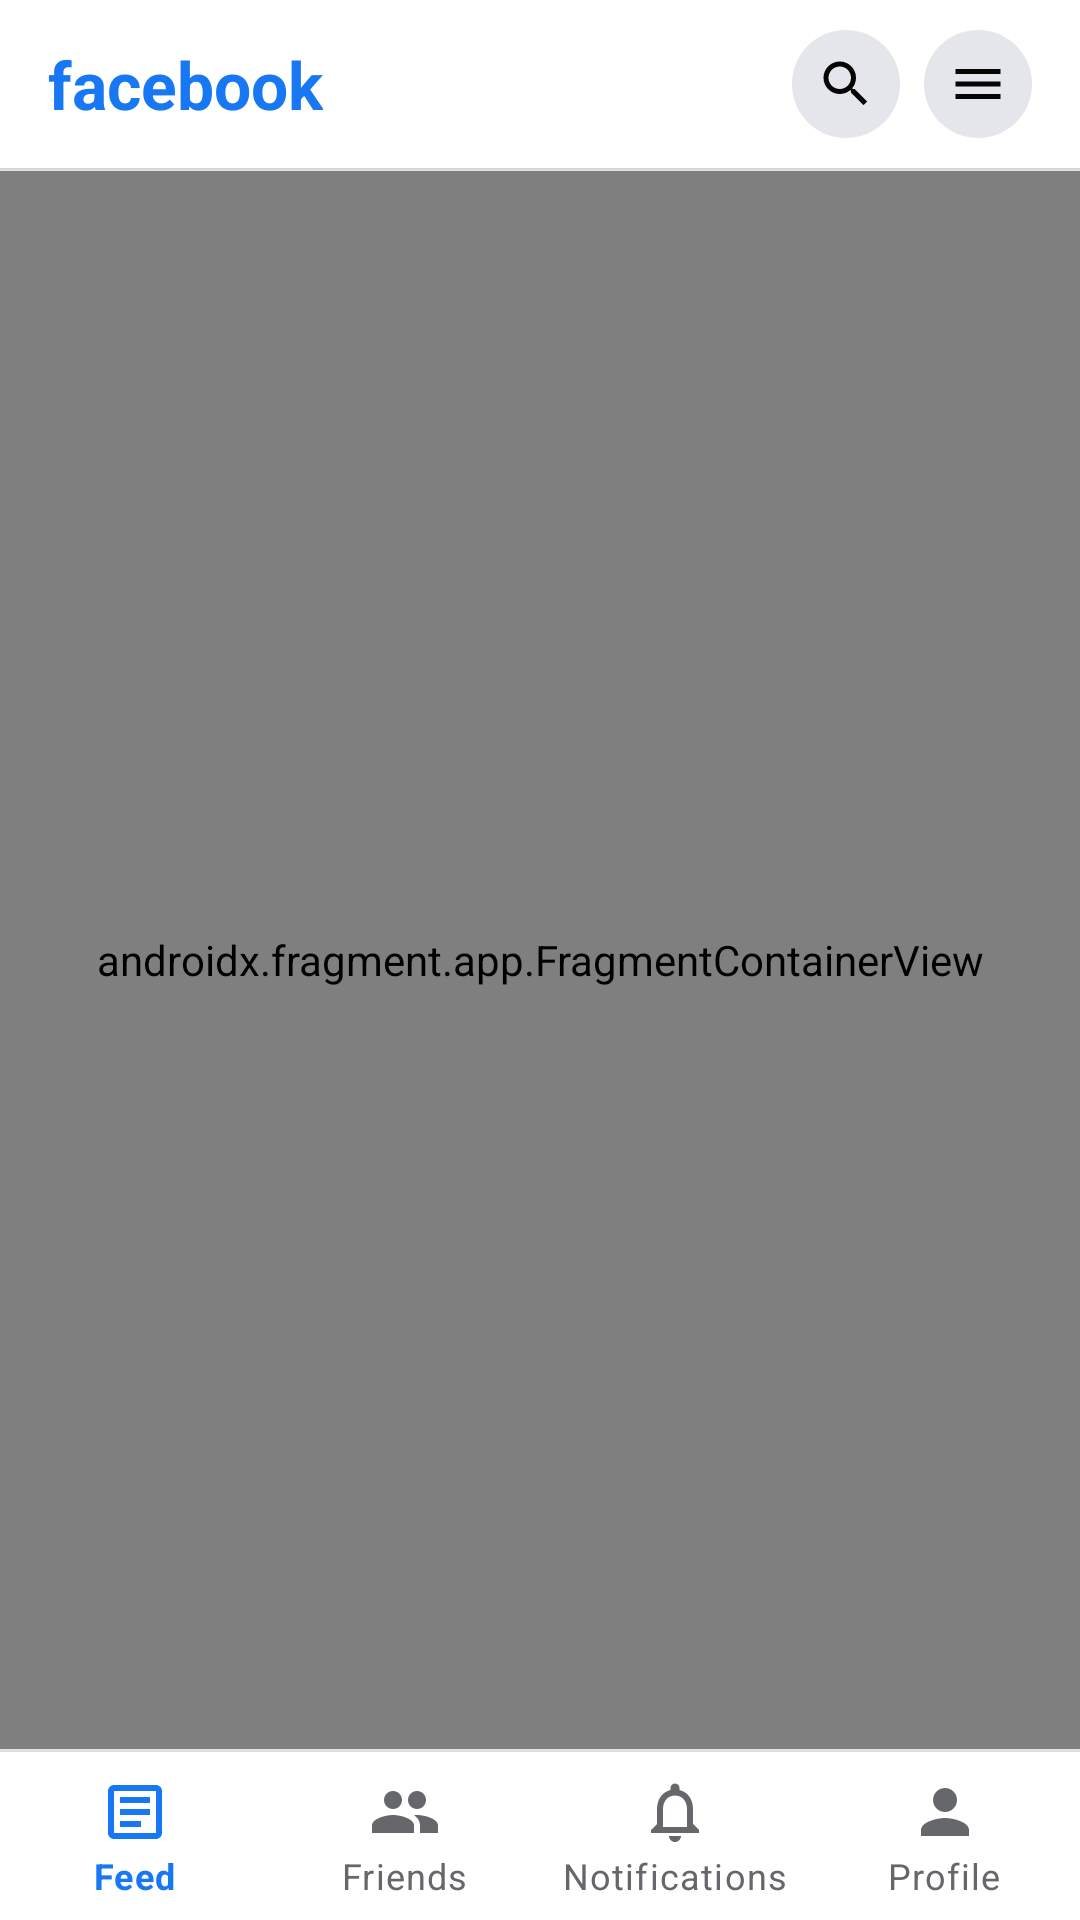

Icons on this 1080px x 1920px Android screen, each with its box as (x1, y1, x2, y2):
Search friends: (792, 30, 900, 138)
